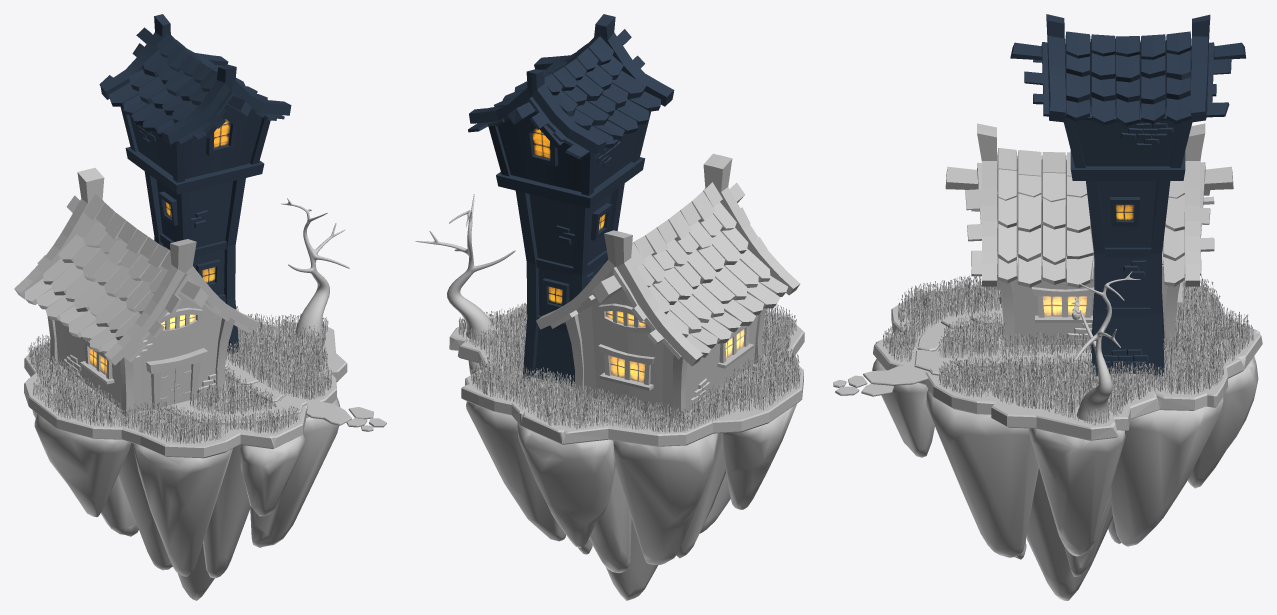
Rendered from stylized_house_final.fbx.
3 renders of one model, left to right at view 1: azimuth 30°, elevation 25°; view 2: azimuth 150°, elevation 25°; view 3: azimuth 270°, elevation 25°, orthographic. The views are drawn at different scales.
Parts seen in each view (by area): view 1: plant.003, ground_013, ground_003, house_011_low, house_016_low, ground_007, tower_022_low, ground_004, tower_009_low, ground_014, ground_008, tower_019_low (+30 smaller); view 2: plant.003, ground_013, ground_002, house_016_low, ground_006, house_011_low, tower_012_low, tower_022_low, ground_005, tower_019_low, tower_009_low, ground_007 (+28 smaller); view 3: plant.003, ground_013, ground_004, ground_005, ground_009, tower_012_low, house_011_low, tower_019_low, tower_022_low, tower_009_low, ground_001, house_027_low (+28 smaller).
Boxes of the visible parts, <box> form: plant.003: <box>28,306,331,443</box>; ground_013: <box>24,322,347,458</box>; ground_003: <box>132,443,232,576</box>; house_011_low: <box>14,167,259,365</box>; house_016_low: <box>54,293,221,412</box>; ground_007: <box>34,414,131,517</box>; tower_022_low: <box>100,14,291,144</box>; ground_004: <box>250,397,339,547</box>; tower_009_low: <box>129,104,262,178</box>; ground_014: <box>203,444,250,578</box>; ground_008: <box>240,434,304,516</box>; tower_019_low: <box>144,171,245,353</box>; plant.003: <box>458,303,800,432</box>; ground_013: <box>449,304,804,446</box>; ground_002: <box>613,433,719,564</box>; house_016_low: <box>577,289,757,417</box>; ground_006: <box>517,422,615,547</box>; house_011_low: <box>536,153,800,366</box>; tower_012_low: <box>529,193,611,386</box>; tower_022_low: <box>469,14,674,154</box>; ground_005: <box>466,401,565,541</box>; tower_019_low: <box>515,183,624,386</box>; tower_009_low: <box>497,111,640,191</box>; ground_007: <box>721,403,797,509</box>; plant.003: <box>883,275,1253,425</box>; ground_013: <box>873,285,1262,440</box>; ground_004: <box>926,389,1038,557</box>; ground_005: <box>1111,397,1223,546</box>; ground_009: <box>1029,428,1125,556</box>; tower_012_low: <box>1099,181,1156,373</box>; house_011_low: <box>977,123,1205,286</box>; tower_019_low: <box>1086,181,1170,376</box>; tower_022_low: <box>1046,14,1210,122</box>; tower_009_low: <box>1074,61,1191,166</box>; ground_001: <box>1026,468,1112,600</box>; house_027_low: <box>1017,150,1041,287</box>.
Size of the model in its own units: 919 by 1439 by 936.
